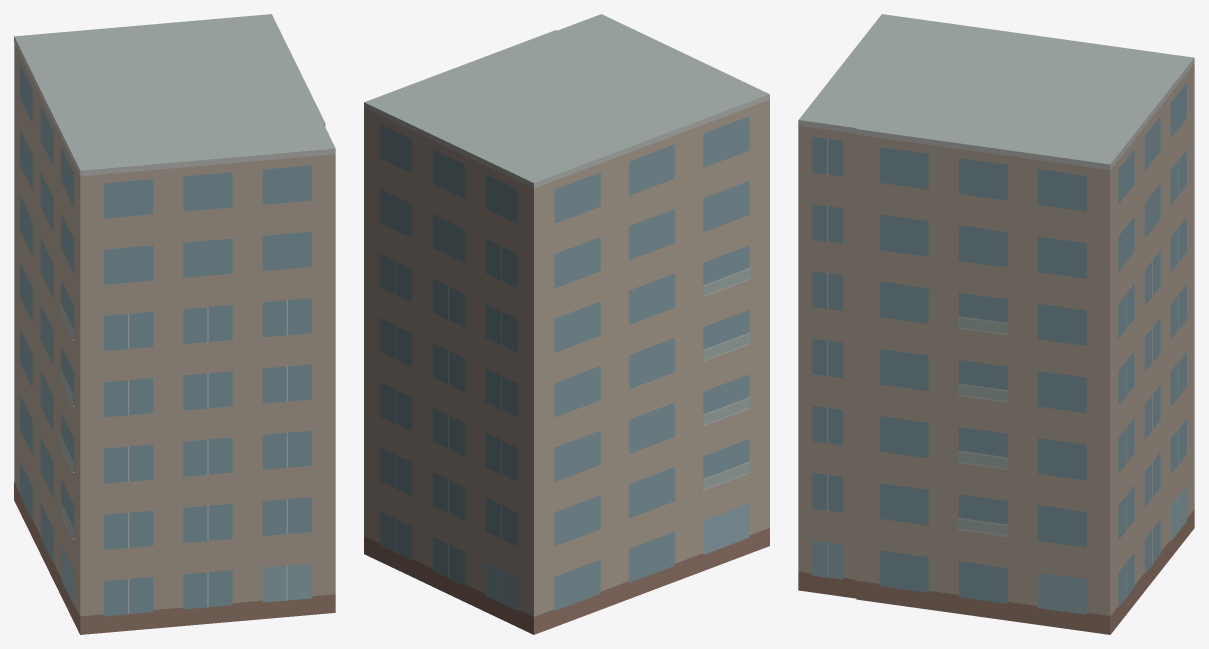
Rendered from survey-upis-33010391.glb.
3 views of the same model, side by side, from view 1: azimuth 30°, elevation 25°; view 2: azimuth 150°, elevation 25°; view 3: azimuth 270°, elevation 25° (orthographic). The views are drawn at different scales.
Parts seen in each view (by area): view 1: survey-upis-33010391.tmp; view 2: survey-upis-33010391.tmp; view 3: survey-upis-33010391.tmp.
Part boxes in pixels (left/top/right/bottom): survey-upis-33010391.tmp: left=14, top=14, right=335, bottom=634; survey-upis-33010391.tmp: left=364, top=14, right=769, bottom=634; survey-upis-33010391.tmp: left=798, top=14, right=1194, bottom=634.
Bounding box in the file's own units: 13.93 × 20.3 × 15.5.
